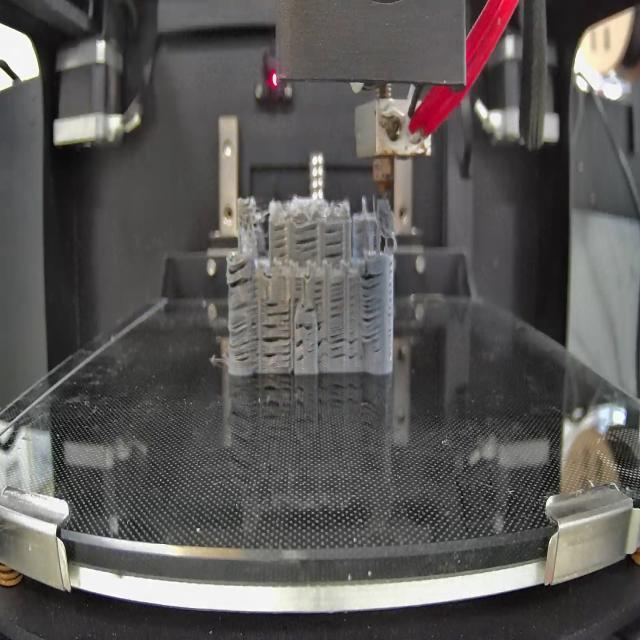cracks: (228, 300, 260, 368), (361, 267, 382, 346), (262, 323, 291, 371), (226, 252, 253, 288), (294, 224, 320, 258), (332, 331, 359, 363), (324, 222, 345, 259), (331, 278, 344, 322), (267, 296, 291, 319), (318, 317, 328, 369), (275, 225, 289, 258), (294, 318, 315, 334), (293, 275, 304, 305), (295, 337, 306, 367), (313, 280, 325, 303), (305, 306, 317, 314)
